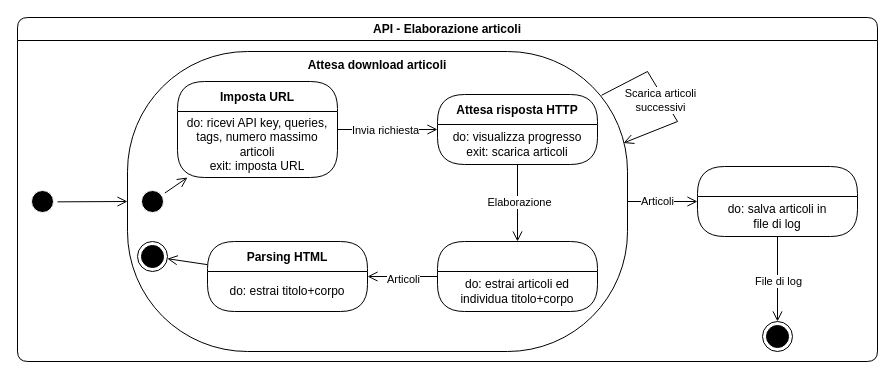
The diagram is 895 pixels wide and 379 high, and some of its shapes have lost their labels. Here are the shapes that lost their labels. From the top down, the box of each, then its label:
(696, 166, 858, 236): Serializzazione
(436, 240, 598, 312): Parsing risposta API
